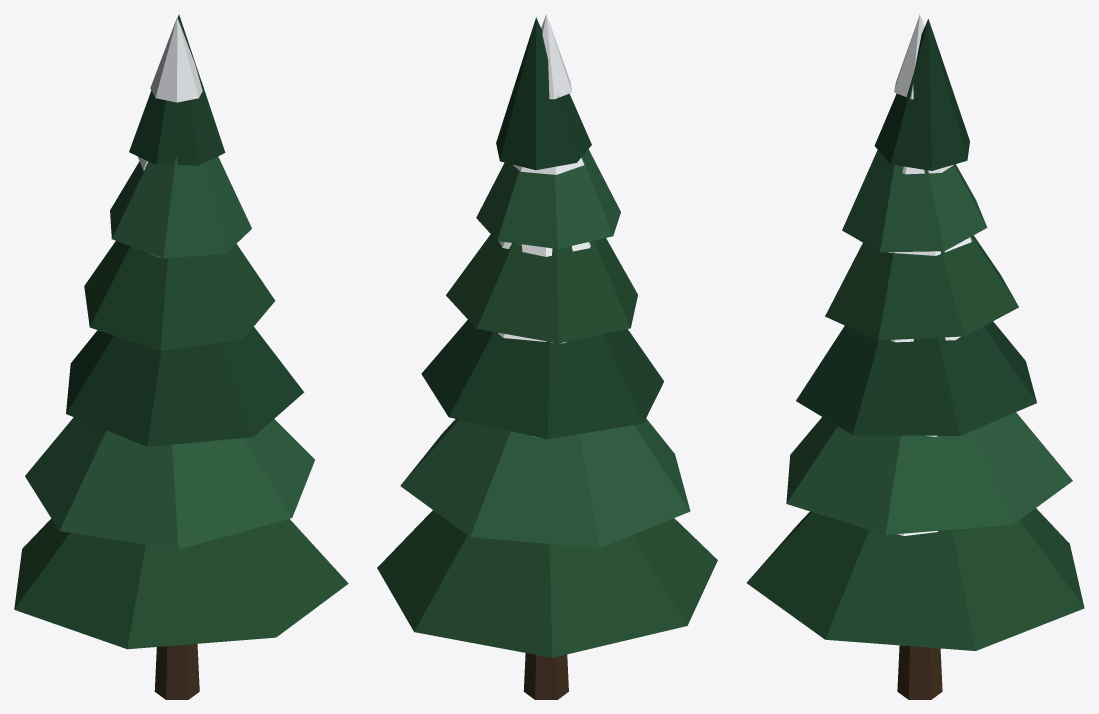
Rendered from pine_snow.glb.
3 views of the same model, side by side, from view 1: azimuth 30°, elevation 25°; view 2: azimuth 150°, elevation 25°; view 3: azimuth 270°, elevation 25° (orthographic).
Parts seen in each view (by area): view 1: pine_mesh; view 2: pine_mesh; view 3: pine_mesh.
Boxes of the visible parts, bbox=[...] form: pine_mesh: bbox=[14, 14, 348, 699]; pine_mesh: bbox=[377, 14, 717, 699]; pine_mesh: bbox=[746, 14, 1084, 699].
Bounding box in the file's own units: 2.1 × 4.63 × 2.09.
